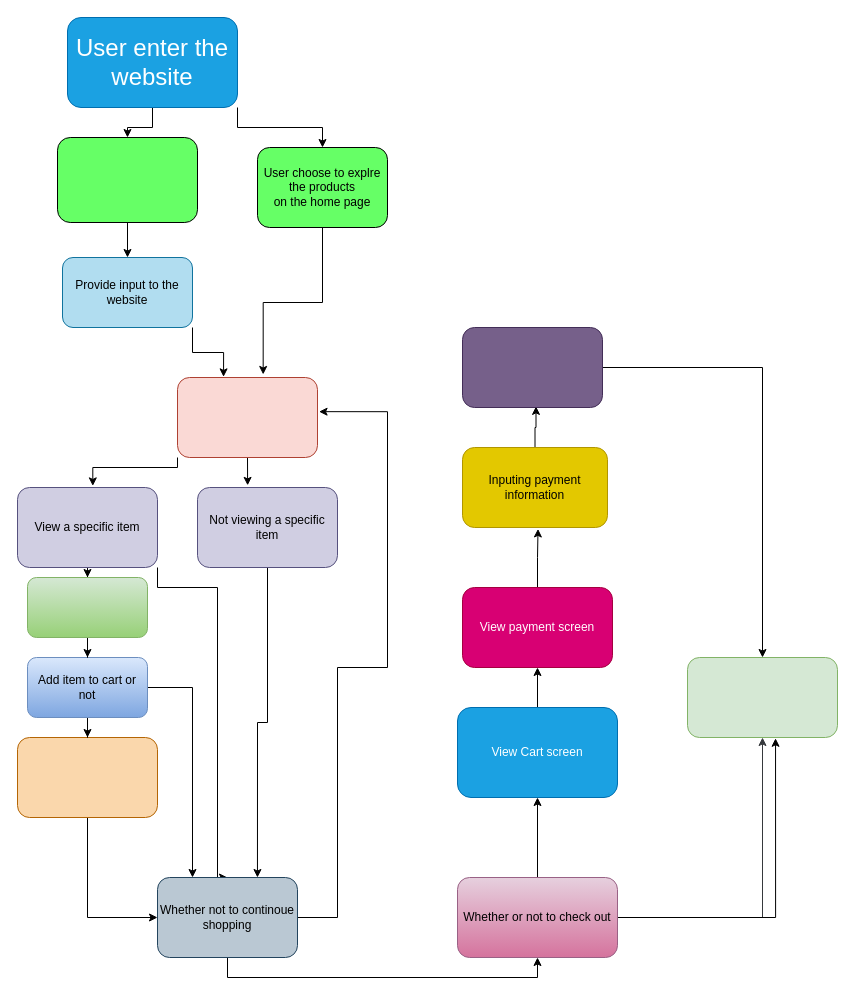
The diagram is 855 pixels wide and 1003 high, and some of its shapes have lost their labels. The shapes that lost their labels are listed below. From the top down, each one's box as (x1, y1, x2, y2) in pixels, then its label:
(56, 136, 198, 222): User choose to searching for a product
(462, 326, 602, 408): Pay the order and see a confirmtion screen
(176, 376, 318, 458): Start looking over the product
(26, 576, 148, 638): A special page come out
(686, 656, 838, 738): Leave website
(16, 736, 158, 818): Added a item to cart user get a cart confirmation
